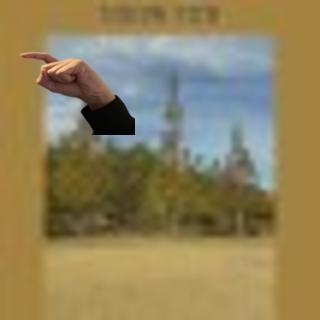WHY: (16, 46, 113, 105)
